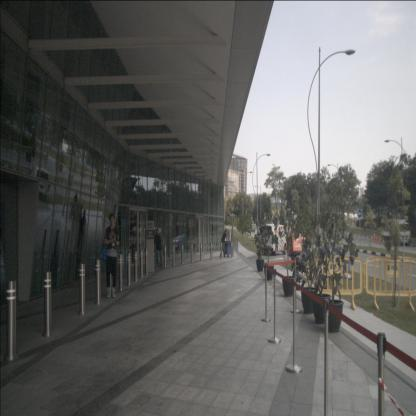human-pedestrian-adult: (100, 214, 119, 298), (74, 210, 86, 250), (154, 227, 164, 269), (220, 229, 228, 258), (74, 192, 78, 212)
movable_object-trafficcone: (390, 236, 394, 247), (378, 235, 381, 245), (373, 232, 376, 242), (376, 233, 378, 244)
vehicle-car: (260, 225, 288, 255), (30, 165, 50, 202), (171, 235, 195, 251)
vehicle-motorcycle: (287, 233, 329, 290)
vehicle-truck: (381, 218, 410, 245), (128, 228, 150, 249)
